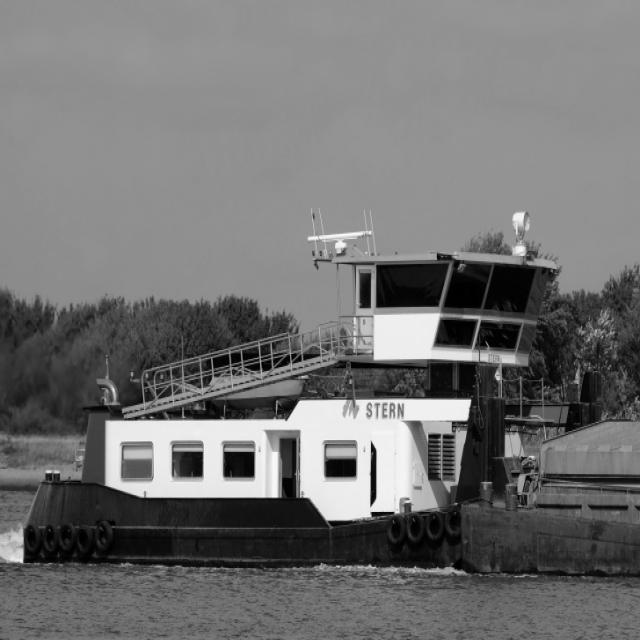tugboat: (20, 206, 608, 584)
